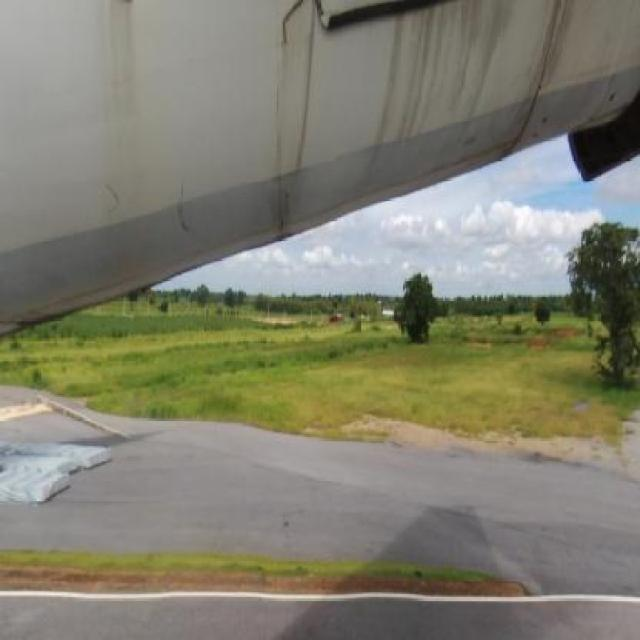Rust: (378, 1, 607, 187), (268, 0, 330, 252), (85, 2, 168, 178), (86, 160, 226, 252), (7, 289, 85, 342)
